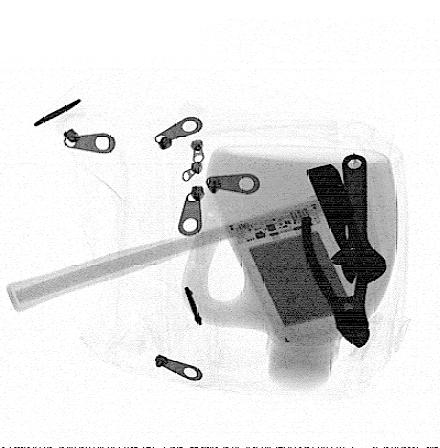Hammer: (7, 162, 355, 313)
Pliers: (300, 206, 371, 350)
Powerbank: (223, 197, 365, 347)
Wrench: (327, 153, 387, 286)
